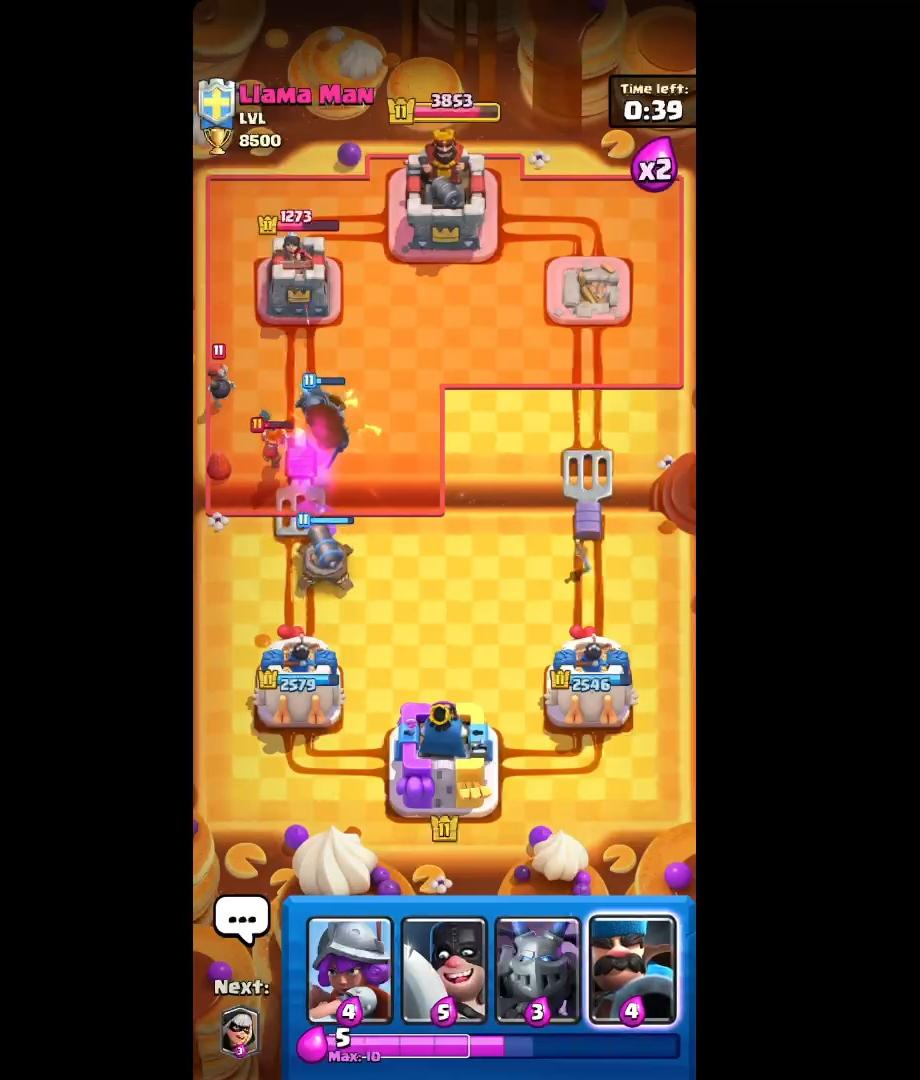Bomber: (204, 342, 244, 409)
Valkyrie: (248, 413, 297, 476)
